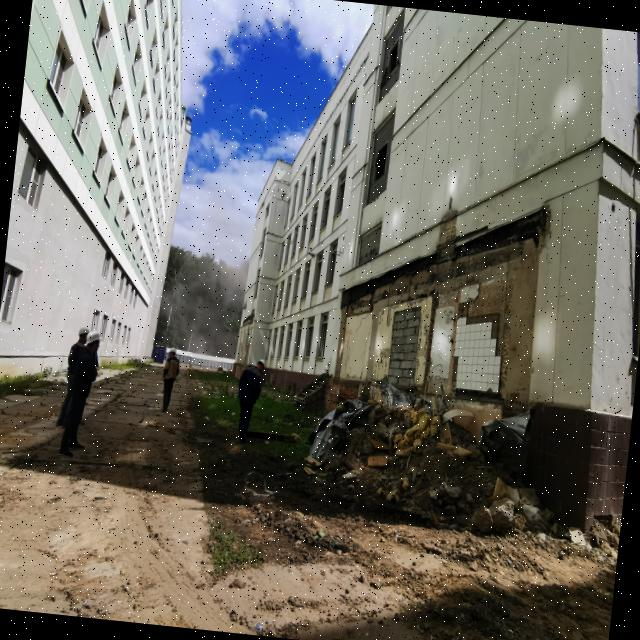Helmet: (85, 331, 104, 353), (79, 327, 92, 344), (256, 360, 267, 373), (169, 347, 178, 358)
